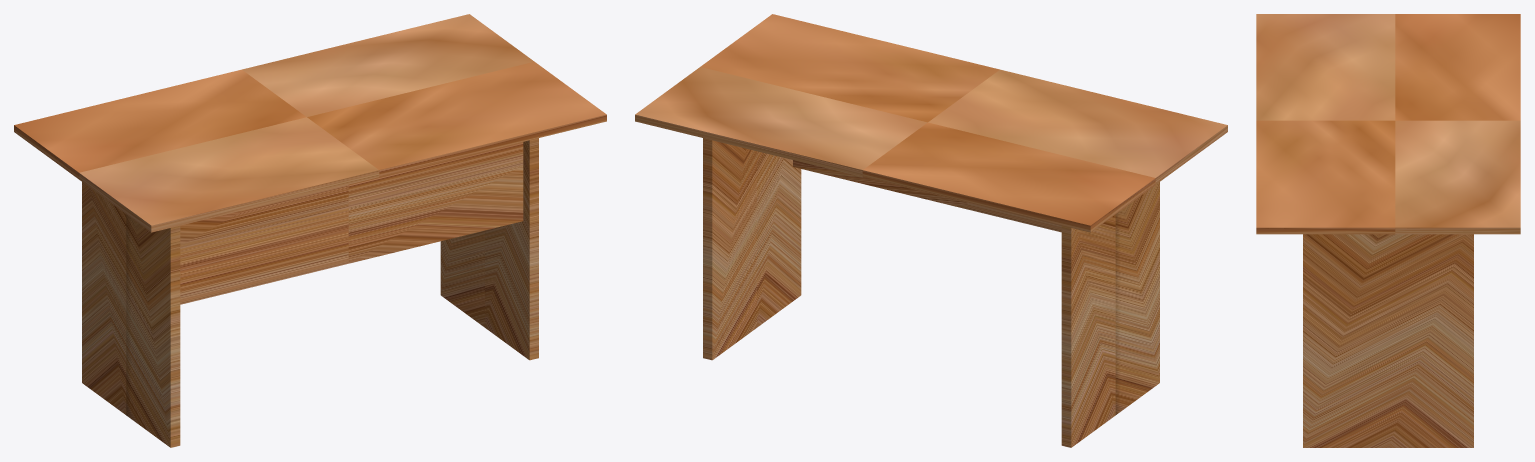
File: Письменный стол Бюджет.glb
3 views of the same model, side by side, from view 1: azimuth 30°, elevation 25°; view 2: azimuth 150°, elevation 25°; view 3: azimuth 270°, elevation 25° (orthographic). The views are drawn at different scales.
Parts seen in each view (by area): view 1: tree; view 2: tree; view 3: tree.
Part boxes in pixels (box(x1,y1,x2,y2)): tree: box(14, 14, 606, 447); tree: box(635, 14, 1227, 447); tree: box(1256, 14, 1520, 447).
Bounding box in the file's own units: 4.5 × 2.37 × 2.35.
Materials: 1 (1 with a texture image).
